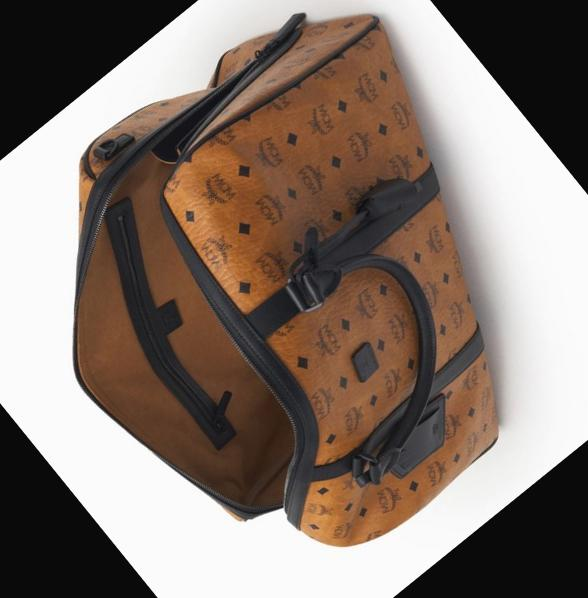MCM: (20, 0, 588, 578)
